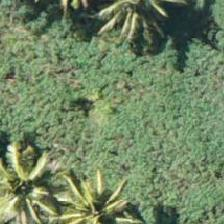coconut_tree: (0, 137, 58, 223), (86, 0, 176, 55), (44, 173, 134, 223)
